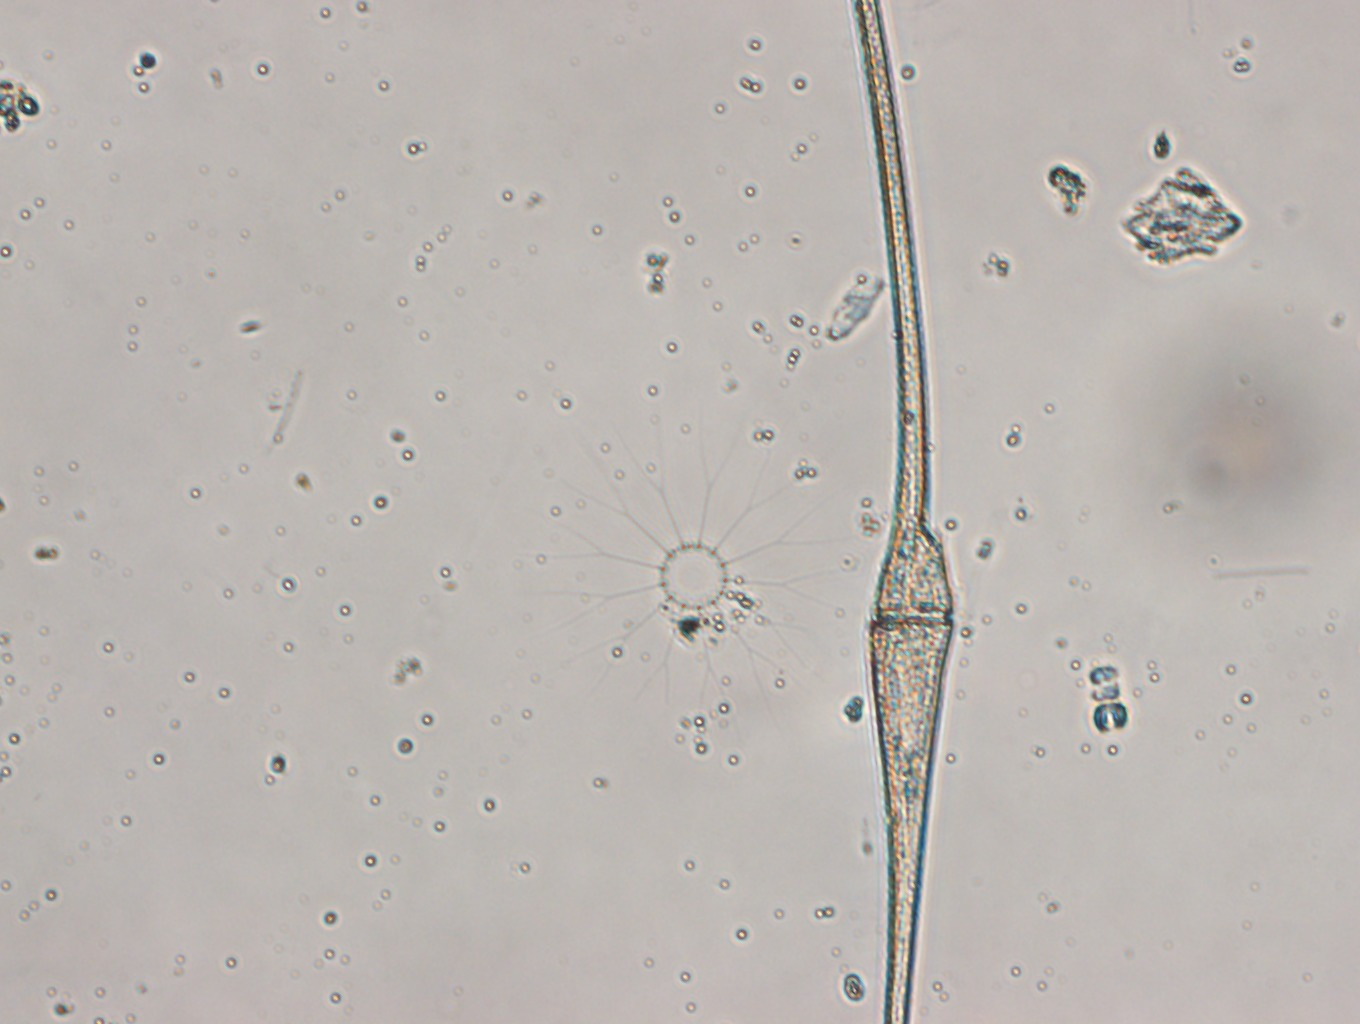bacteriastrum: (555, 427, 851, 719)
ceratium fusus: (849, 1, 955, 1024)
